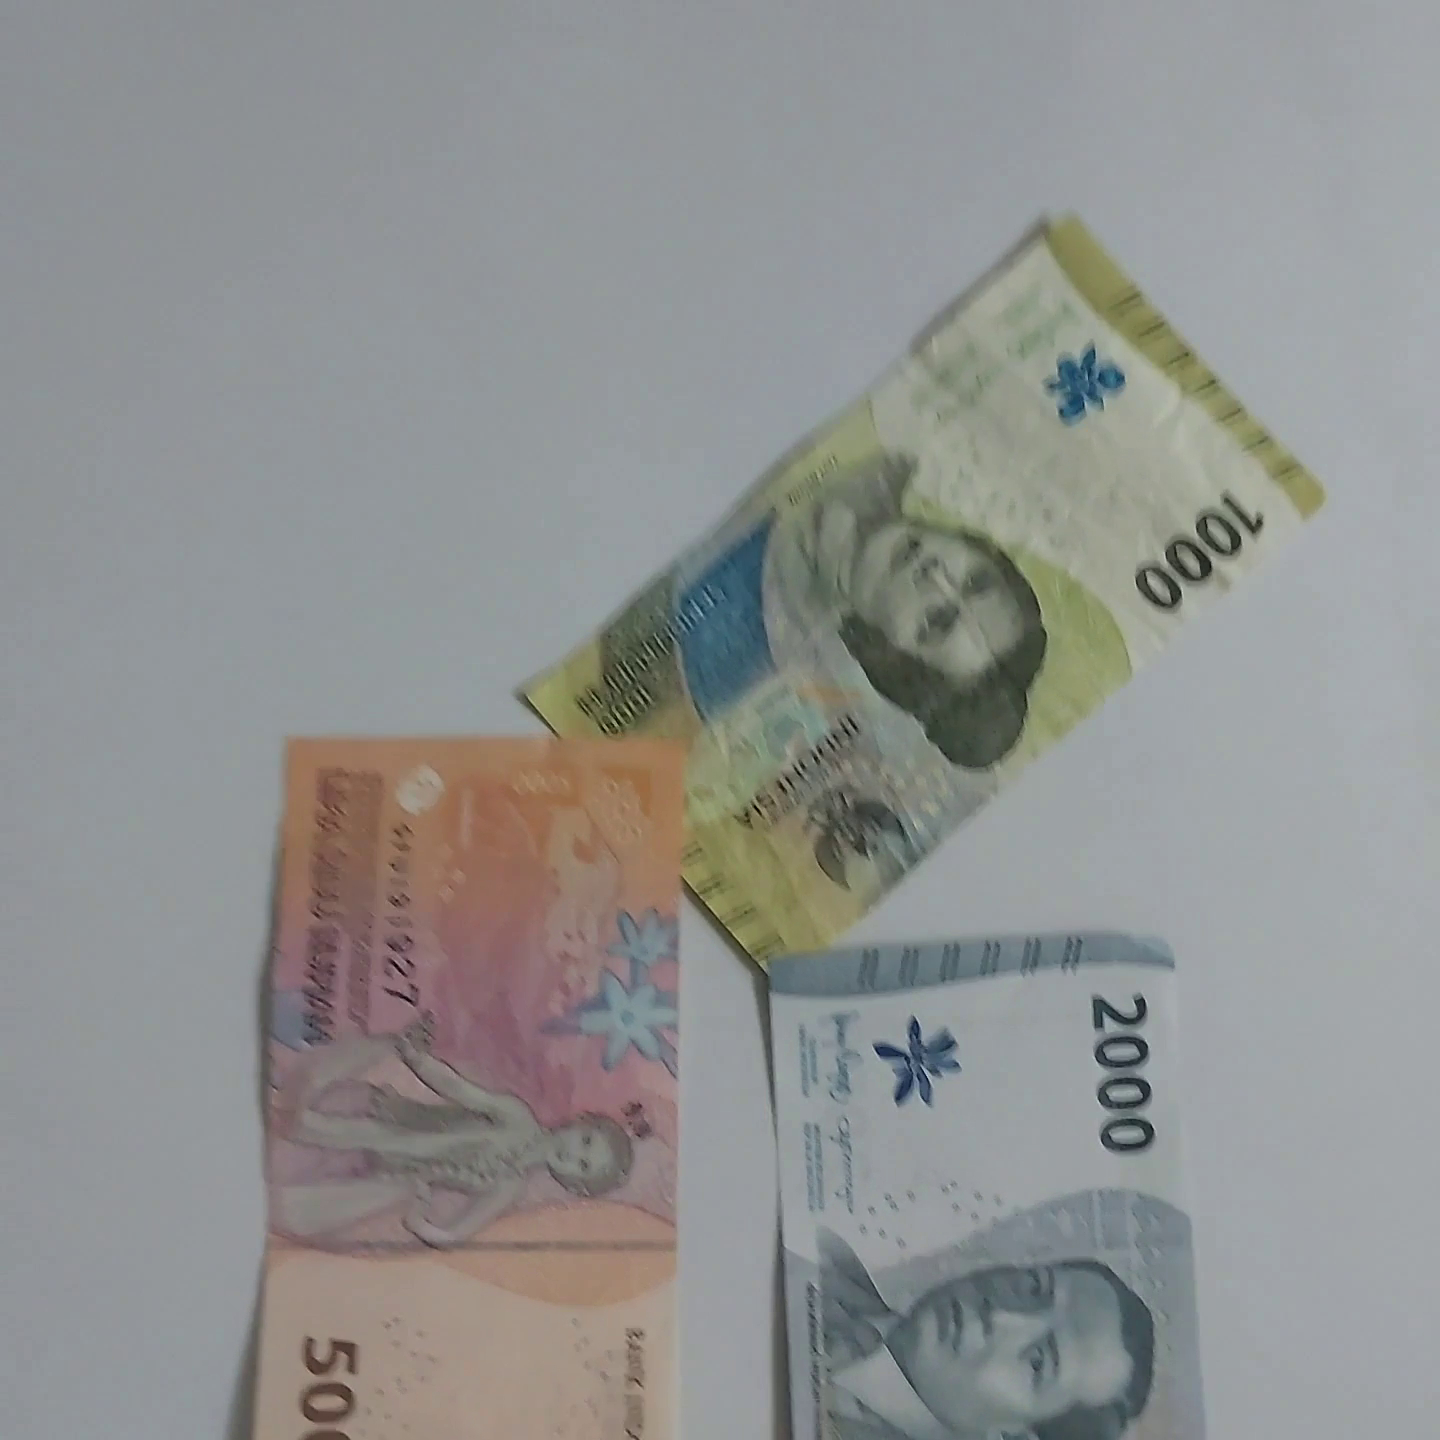1k: (526, 185, 1361, 910)
2k: (765, 927, 1337, 1440)
5k: (231, 707, 709, 1440)
